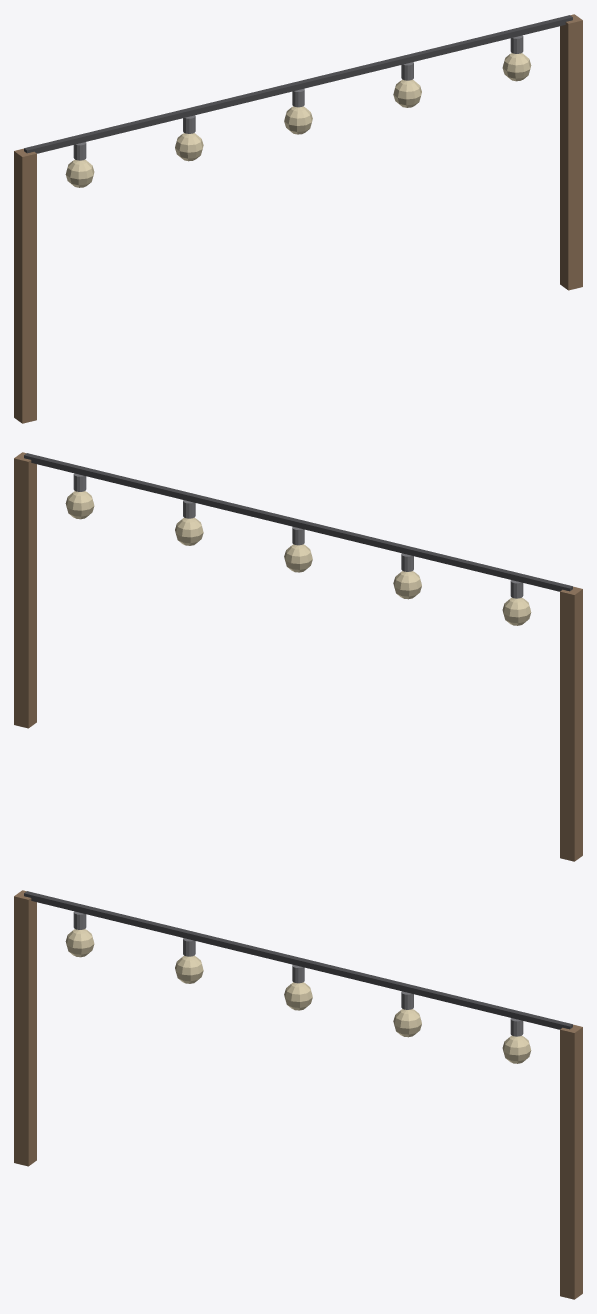
Rendered from ilu_cordao_luz.glb.
The picture shows the model from 3 angles, top to bottom: view 1: azimuth 30°, elevation 25°; view 2: azimuth 150°, elevation 25°; view 3: azimuth 330°, elevation 25°; orthographic projection.
Parts seen in each view (by area): view 1: ILU_Cordao_Luz_v01; view 2: ILU_Cordao_Luz_v01; view 3: ILU_Cordao_Luz_v01.
Part boxes in pixels (x1,y1,x2,y2): ILU_Cordao_Luz_v01: [14, 14, 582, 423]; ILU_Cordao_Luz_v01: [14, 452, 582, 861]; ILU_Cordao_Luz_v01: [14, 890, 582, 1299].
Bounding box in the file's own units: 1.54 × 0.7075 × 0.07.
